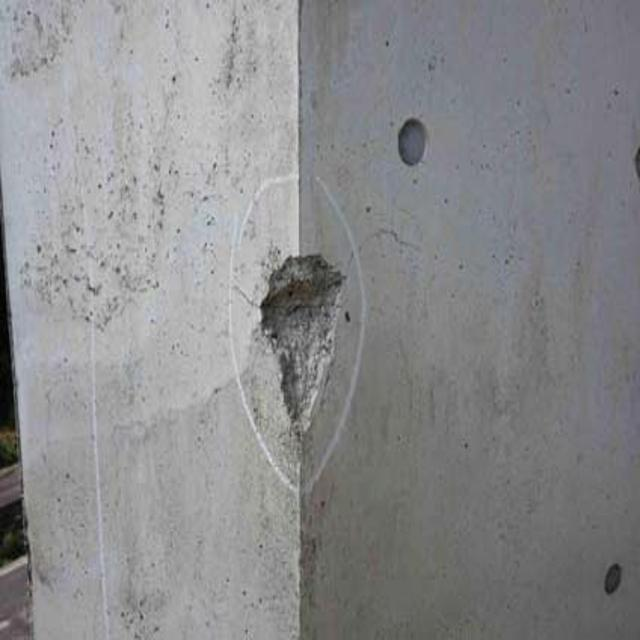spalling: (237, 227, 373, 456)
